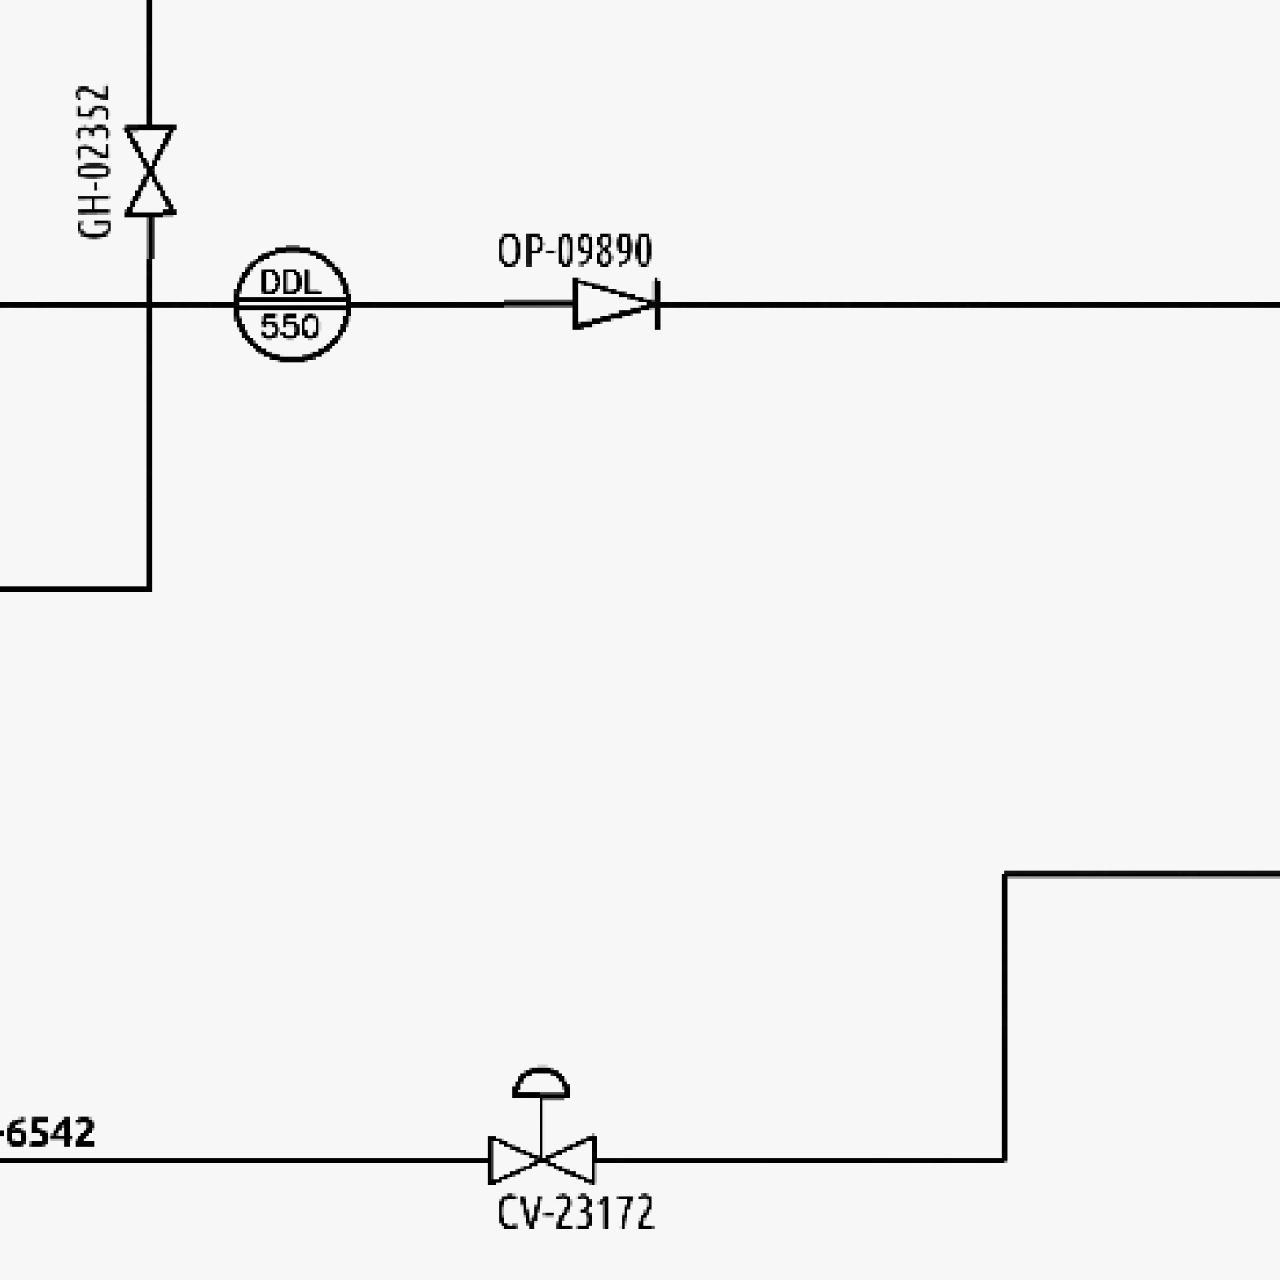Control-Panel: (227, 240, 355, 366)
